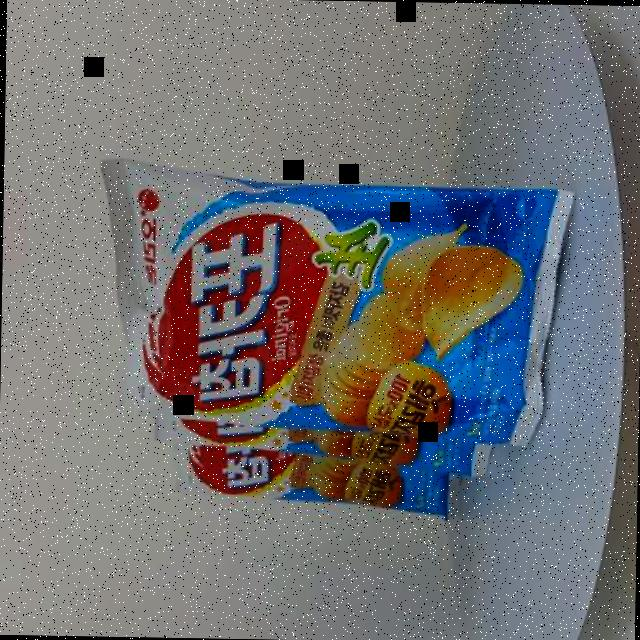snack_bag: (70, 146, 584, 538)
